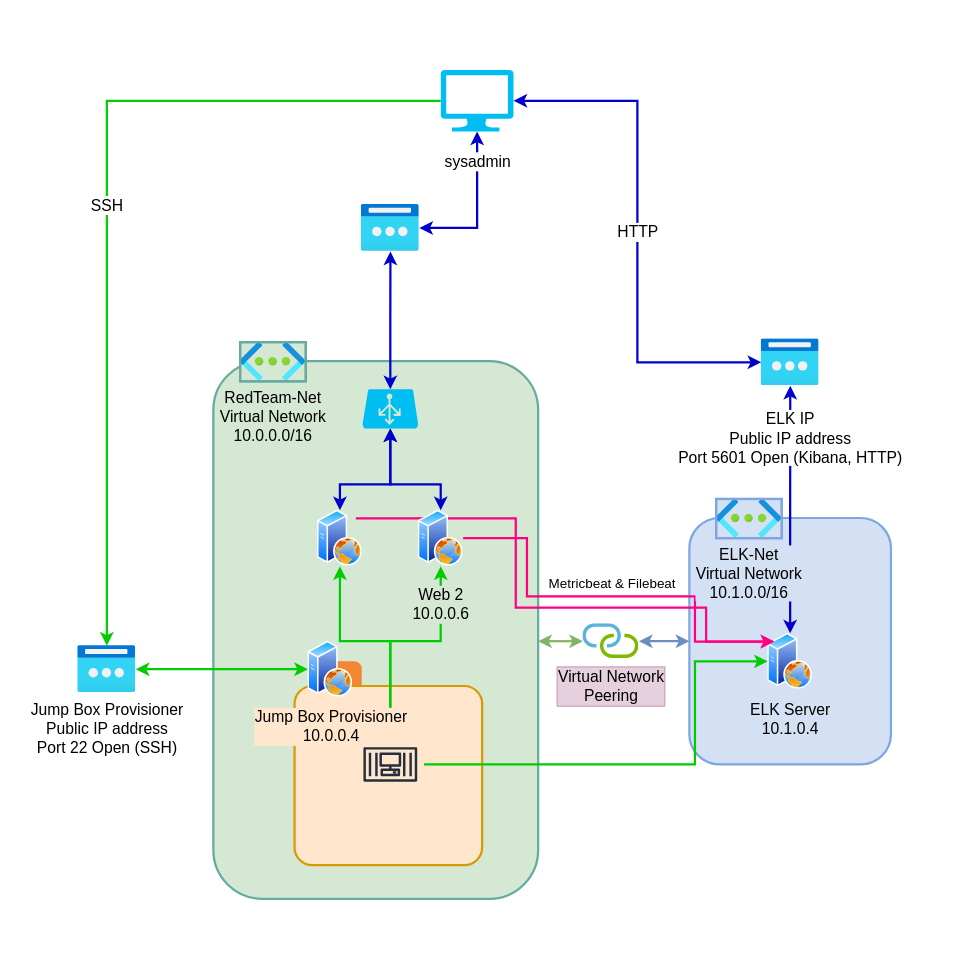
Image size: 968x968. Some labels were removed from this diagram. Each missing label, with the centre of its shape:
"Docker Container Ansible" belongs at [390,764].
"Load Balancer" belongs at [390,408].
"Load Balancer IP Public IP address Port 80 Open (HTTP)" belongs at [390,227].
"Web 1 10.0.0.5" belongs at [339,538].
